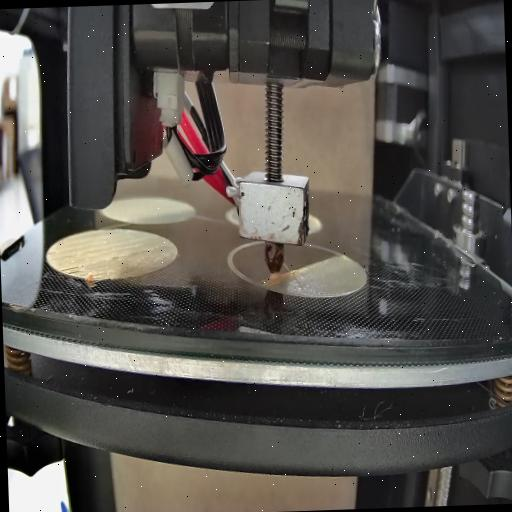under_extrusion: (110, 241, 166, 260), (60, 260, 94, 280), (45, 248, 58, 258)
